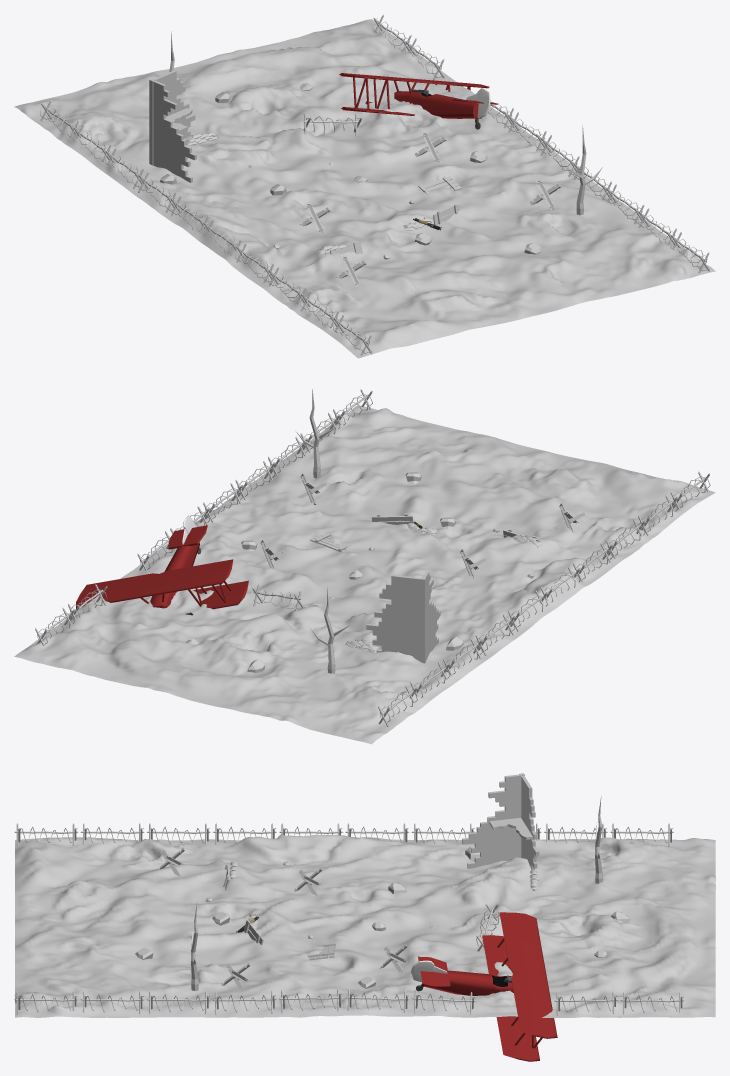
Rendered from Battlefield.fbx.
3 renders of one model, top to bottom at view 1: azimuth 30°, elevation 25°; view 2: azimuth 150°, elevation 25°; view 3: azimuth 270°, elevation 25°, orthographic.
Visible parts, largest first — view 1: No_Mans_Land, Objects; view 2: No_Mans_Land, Objects; view 3: No_Mans_Land, Objects.
Boxes of the visible parts, <box> form: No_Mans_Land: <box>14,19,715,358</box>; Objects: <box>40,14,709,355</box>; No_Mans_Land: <box>14,405,715,744</box>; Objects: <box>35,389,710,726</box>; No_Mans_Land: <box>14,834,715,1017</box>; Objects: <box>14,773,684,1061</box>.
Size of the model in its own units: 3195 by 1069 by 5011.
